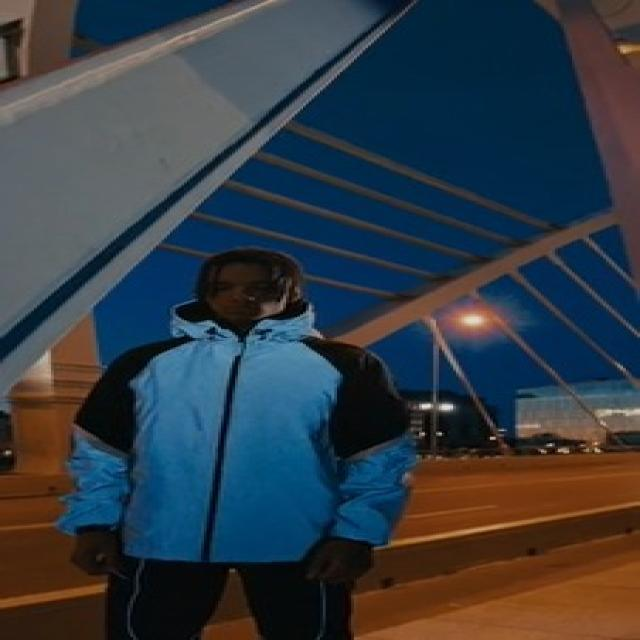Jacket_Wearer: (70, 320, 450, 621)
Person: (65, 252, 438, 640)
